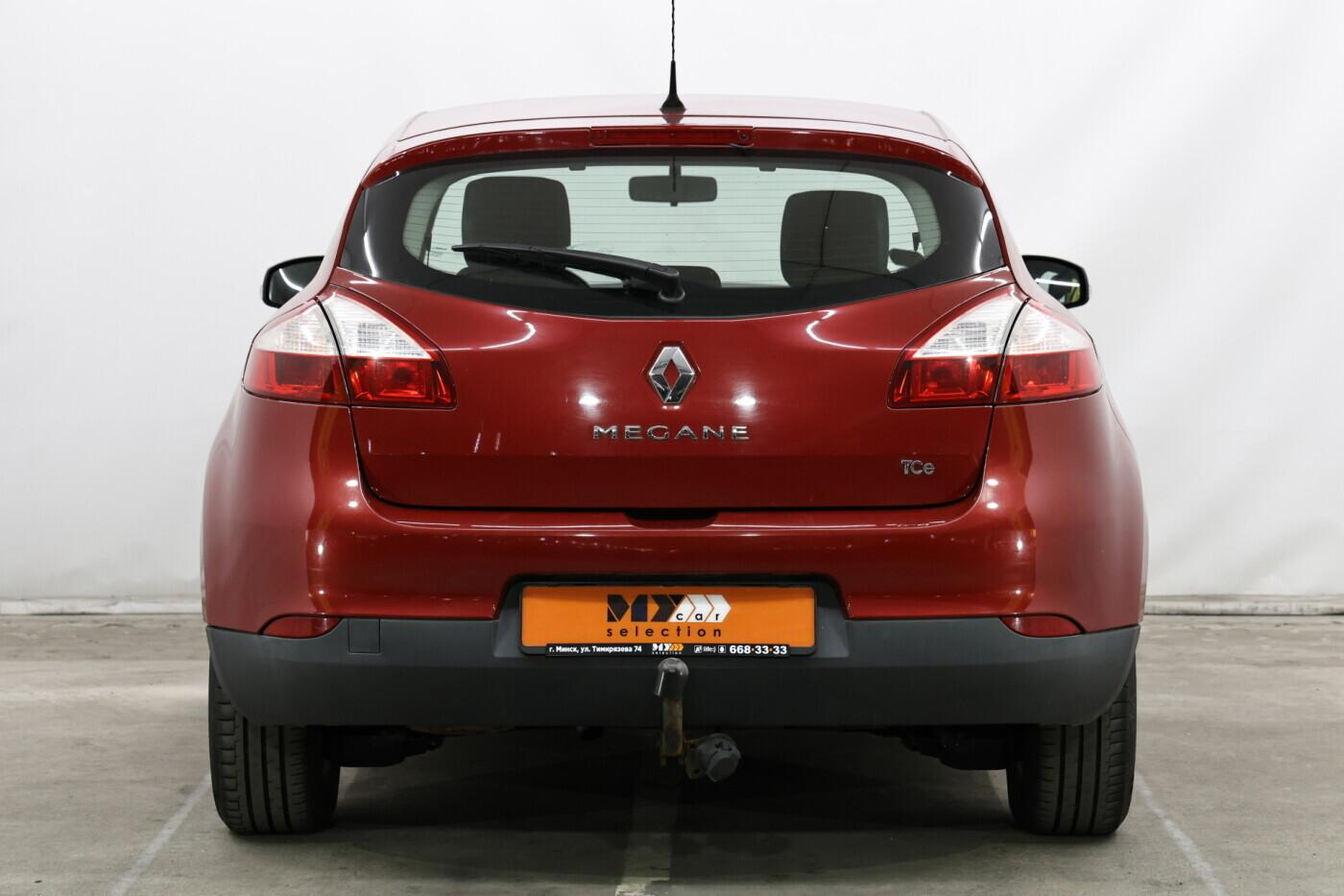Megane_2012-2014: (188, 82, 1158, 827)
